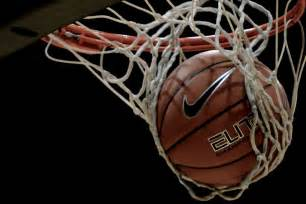basketball: (153, 48, 293, 189)
